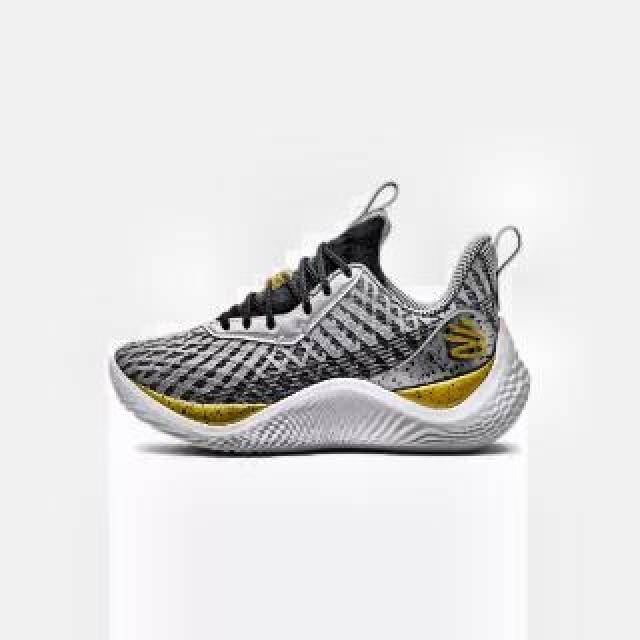shoe: (105, 179, 525, 455)
